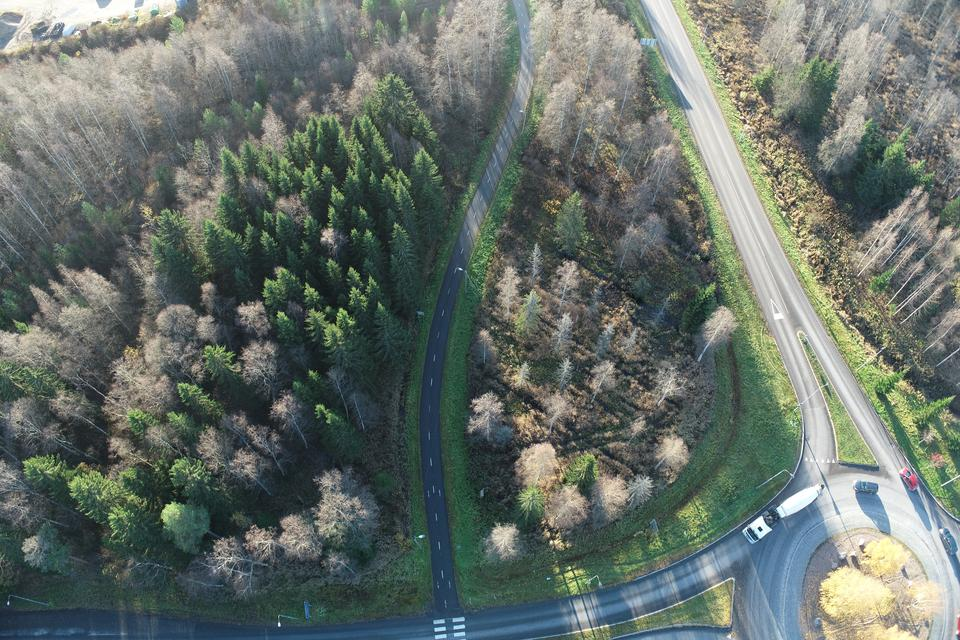intersection: (396, 595, 501, 640)
roundabout: (659, 414, 960, 640)
